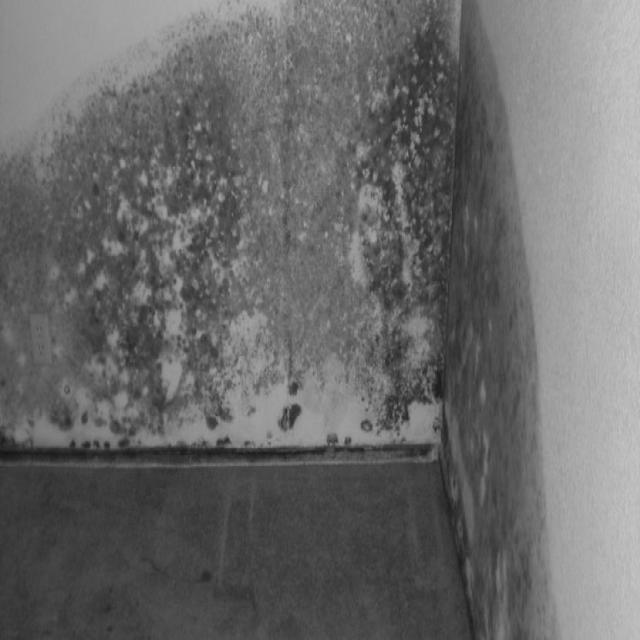stain marks: (238, 0, 474, 444), (136, 11, 236, 456), (52, 58, 135, 460), (474, 19, 549, 444), (440, 446, 555, 640), (0, 121, 51, 310), (0, 312, 28, 456), (31, 367, 52, 455)
